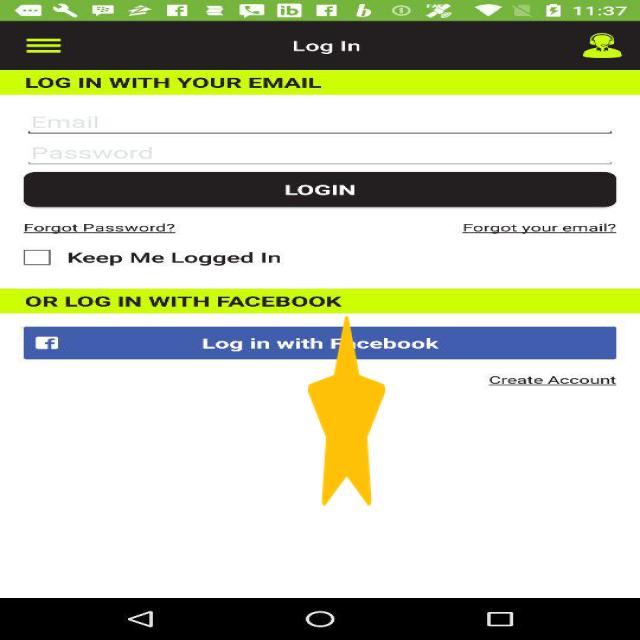forced continuity: (308, 316, 385, 506)
